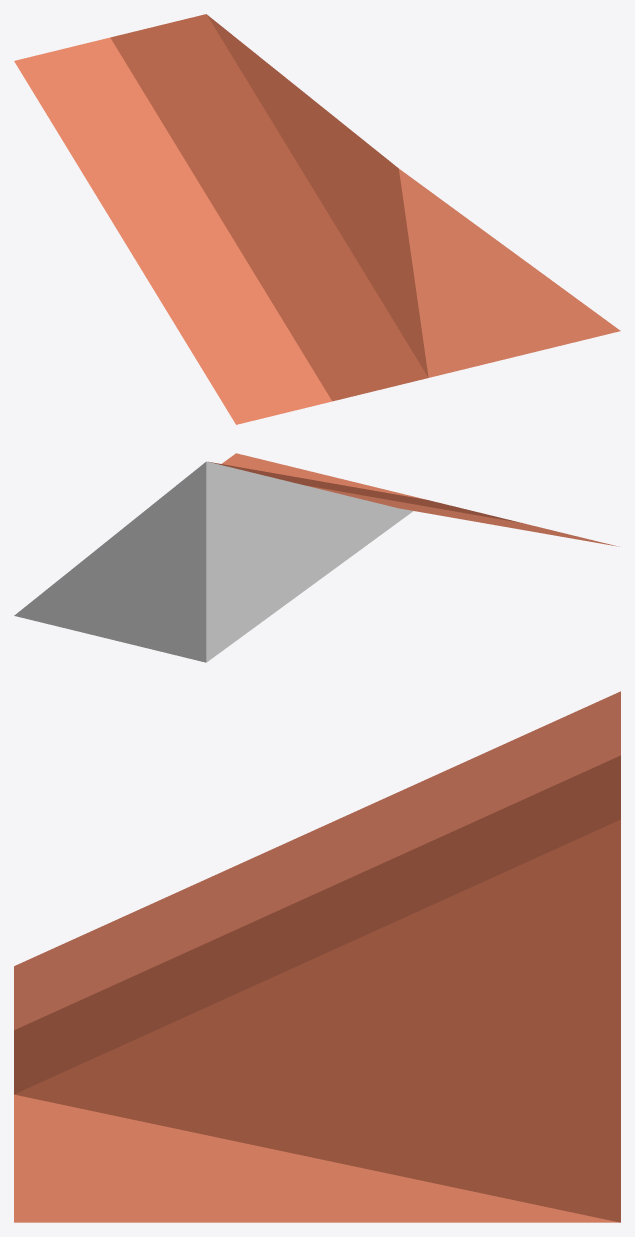
File: terrain_sideEnd.dae
3 views of the same model, one above another, from view 1: azimuth 30°, elevation 25°; view 2: azimuth 150°, elevation 25°; view 3: azimuth 270°, elevation 25° (orthographic). The views are drawn at different scales.
Parts seen in each view (by area): view 1: terrain_sideEnd; view 2: terrain_sideEnd; view 3: terrain_sideEnd.
Part boxes in pixels (left/top/right/bottom): terrain_sideEnd: left=14, top=14, right=620, bottom=424; terrain_sideEnd: left=14, top=453, right=619, bottom=662; terrain_sideEnd: left=14, top=691, right=620, bottom=1222.
Size of the model in its own units: 1 by 0.5 by 1.
